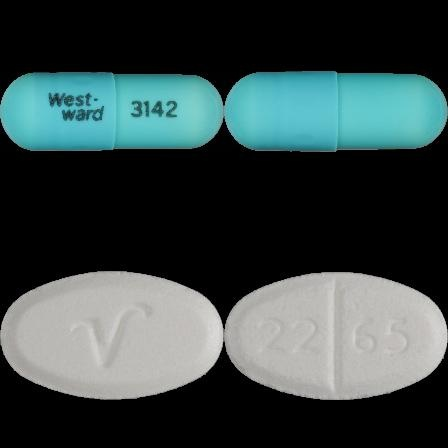10544-169: (0, 0, 224, 224)
